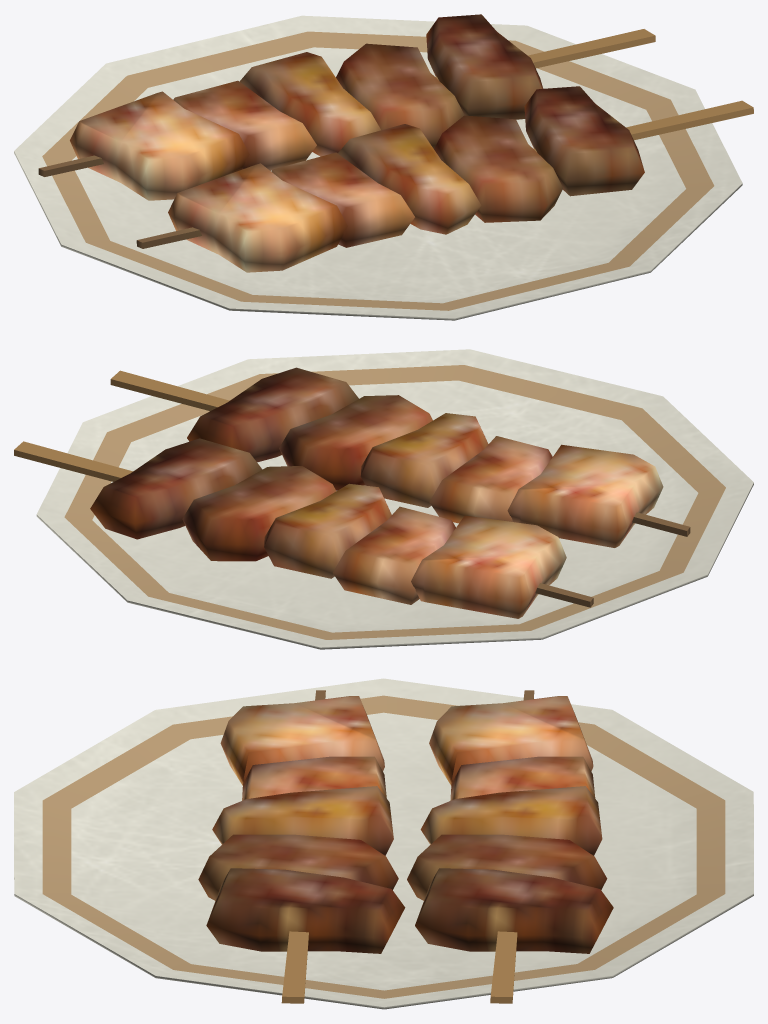
The model's file is dinerfoods13a.fbx.
3 renders of one model, top to bottom at view 1: azimuth 30°, elevation 25°; view 2: azimuth 150°, elevation 25°; view 3: azimuth 270°, elevation 25°, orthographic. The views are drawn at different scales.
Visible parts, largest first — view 1: dinerfoods13a; view 2: dinerfoods13a; view 3: dinerfoods13a.
Boxes of the visible parts, x1,y1,x2,y2 form: dinerfoods13a: [14, 14, 753, 320]; dinerfoods13a: [14, 349, 753, 649]; dinerfoods13a: [14, 678, 753, 1009].
Bounding box in the file's own units: 22.88 × 2.22 × 21.41.
